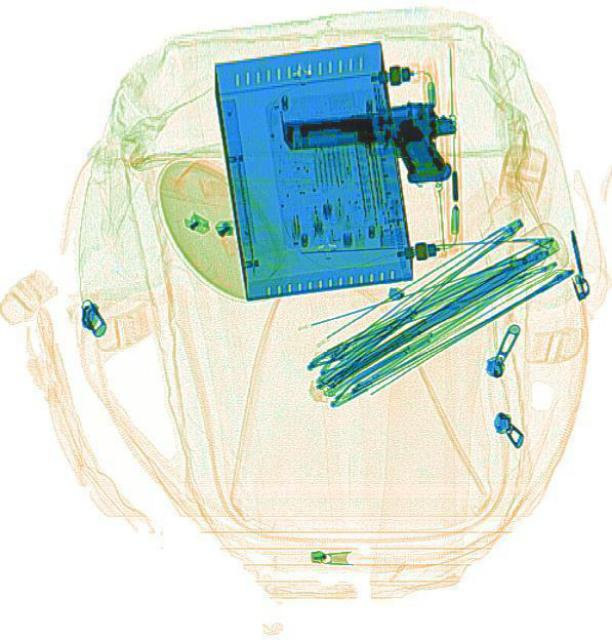Gun: (278, 96, 460, 196)
